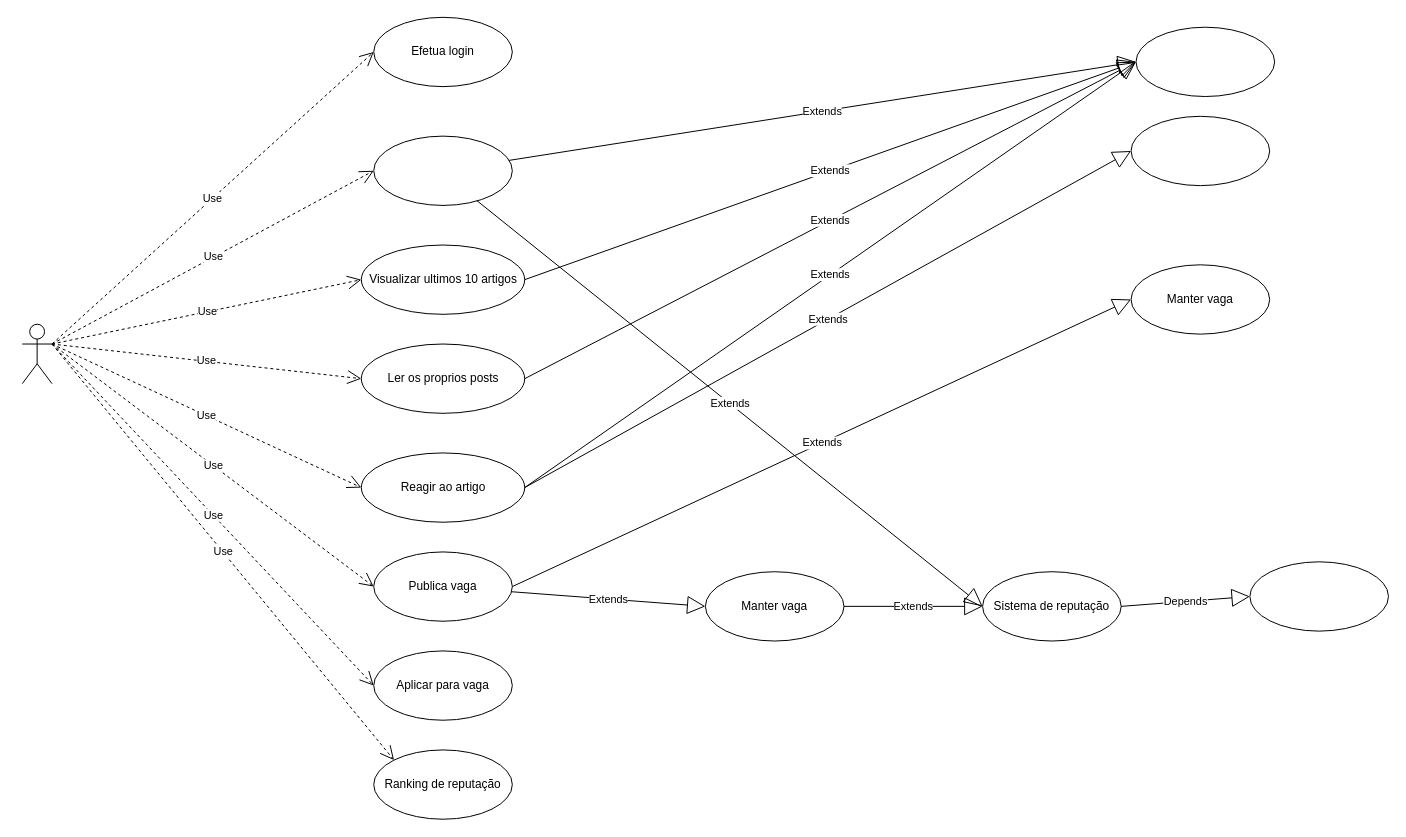
This 1406x837 diagram has some shape labels left out. The centre of each missing label's shape, as x and y in pixels:
"Cria artigo" belongs at point 442,170.
"Manter artigo" belongs at point 1205,61.
"Manter reações" belongs at point 1200,150.
"Sistema de karma do reddit" belongs at point 1318,596.
"Usuário" belongs at point 36,353.
